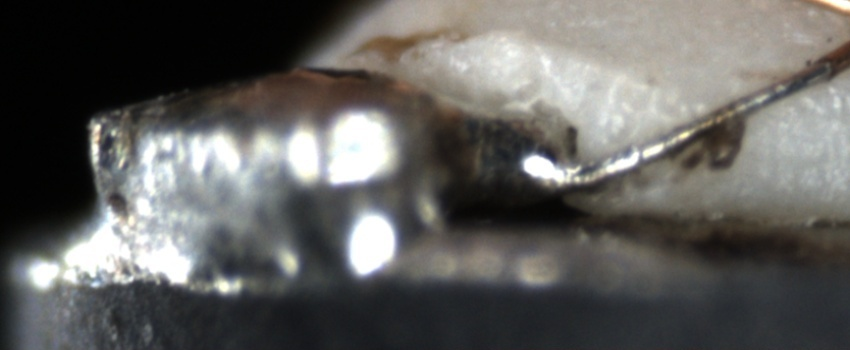TS: (549, 60, 829, 193)
TTCW: (542, 41, 849, 192)
